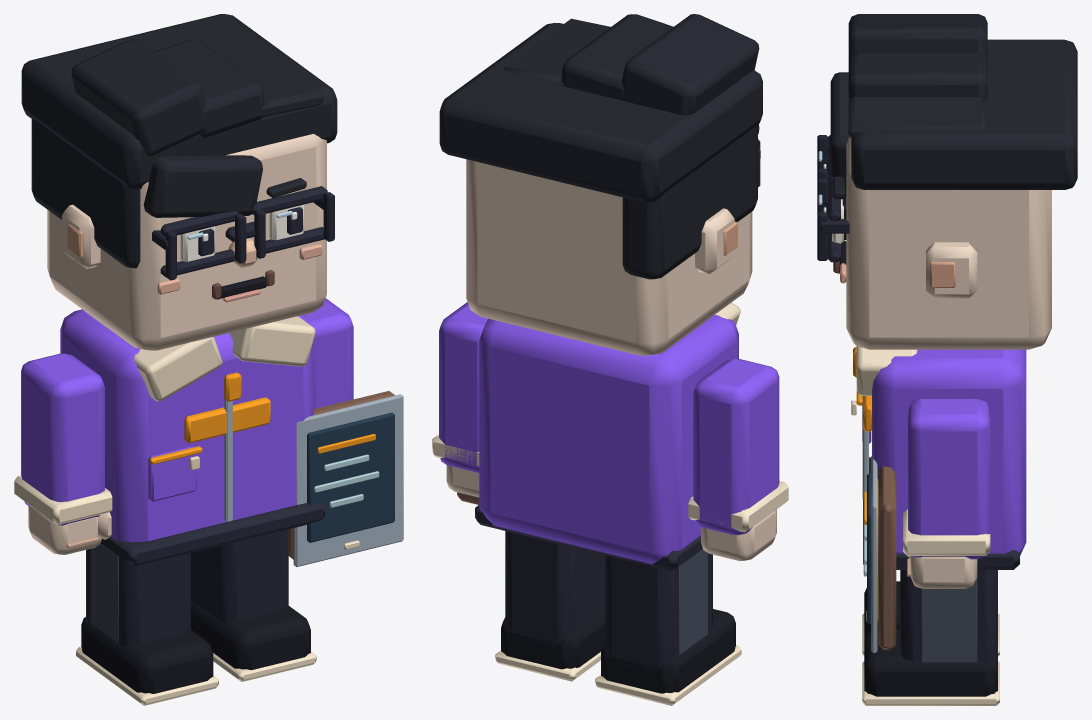
3 renders of one model, left to right at view 1: azimuth 30°, elevation 25°; view 2: azimuth 150°, elevation 25°; view 3: azimuth 270°, elevation 25°, orthographic. The views are drawn at different scales.
Parts seen in each view (by area): view 1: Batch_Head_CITY / #22252e, Batch_Body_CITY / #8b5cf6, Batch_Head_CITY / #f1d9c5.002, Arm_L_sleeve, Batch_Arm_R_CITY / #253d51.001, Leg_R_trouser, Batch_Body_CITY / cream.002, Leg_L_trouser, Batch_Head_CITY / charcoal.002, Batch_Arm_R_CITY / metal.002, Leg_L_shoe, Leg_R_shoe (+13 smaller); view 2: Batch_Head_CITY / #22252e, Batch_Body_CITY / #8b5cf6, Batch_Head_CITY / #f1d9c5.002, Arm_L_sleeve, Leg_R_trouser, Leg_L_trouser, Arm_R_sleeve, Leg_L_shoe, Leg_R_shoe, Batch_Leg_L_CITY / #475061.002, Arm_L_hand, Batch_Leg_L_CITY / cream.002 (+5 smaller); view 3: Batch_Head_CITY / #22252e, Batch_Head_CITY / #f1d9c5.002, Batch_Body_CITY / #8b5cf6, Arm_R_sleeve, Leg_R_shoe, Batch_Leg_R_CITY / #475061.002, Leg_R_trouser, Batch_Arm_R_CITY / wood.002, Batch_Head_CITY / charcoal.002, Arm_R_hand, Batch_Arm_R_CITY / cream.002, Batch_Leg_R_CITY / cream.002 (+8 smaller).
Boxes of the visible parts, box(x1,y1,x2,y2) form: Batch_Head_CITY / #22252e: box(21, 14, 337, 268); Batch_Body_CITY / #8b5cf6: box(60, 309, 313, 542); Batch_Head_CITY / #f1d9c5.002: box(47, 134, 326, 350); Arm_L_sleeve: box(21, 353, 104, 525); Batch_Arm_R_CITY / #253d51.001: box(307, 412, 394, 542); Leg_R_trouser: box(191, 530, 288, 622); Batch_Body_CITY / cream.002: box(134, 316, 315, 470); Leg_L_trouser: box(86, 549, 190, 646); Batch_Head_CITY / charcoal.002: box(152, 186, 334, 280); Batch_Arm_R_CITY / metal.002: box(293, 394, 403, 566); Leg_L_shoe: box(81, 617, 213, 693); Leg_R_shoe: box(191, 600, 310, 670); Batch_Head_CITY / #22252e: box(439, 14, 762, 279); Batch_Body_CITY / #8b5cf6: box(479, 315, 738, 564); Batch_Head_CITY / #f1d9c5.002: box(466, 159, 752, 355); Arm_L_sleeve: box(693, 359, 779, 535); Leg_R_trouser: box(505, 531, 605, 648); Leg_L_trouser: box(605, 553, 712, 672); Arm_R_sleeve: box(439, 302, 488, 472); Leg_L_shoe: box(601, 609, 735, 693); Leg_R_shoe: box(501, 611, 605, 669); Batch_Leg_L_CITY / #475061.002: box(679, 549, 707, 654); Arm_L_hand: box(701, 509, 776, 560); Batch_Leg_L_CITY / cream.002: box(595, 645, 741, 705); Batch_Head_CITY / #22252e: box(830, 14, 1077, 199); Batch_Head_CITY / #f1d9c5.002: box(846, 137, 1051, 349); Batch_Body_CITY / #8b5cf6: box(862, 349, 1026, 555); Arm_R_sleeve: box(908, 398, 990, 559); Leg_R_shoe: box(864, 629, 997, 696); Batch_Leg_R_CITY / #475061.002: box(921, 578, 977, 662); Leg_R_trouser: box(900, 570, 997, 664); Batch_Arm_R_CITY / wood.002: box(878, 466, 896, 649); Batch_Head_CITY / charcoal.002: box(817, 135, 849, 262); Arm_R_hand: box(910, 556, 977, 588); Batch_Arm_R_CITY / cream.002: box(866, 509, 990, 621); Batch_Leg_R_CITY / cream.002: box(862, 661, 999, 705).
Size of the model in its own units: 0.751 by 1.32 by 0.5065.
